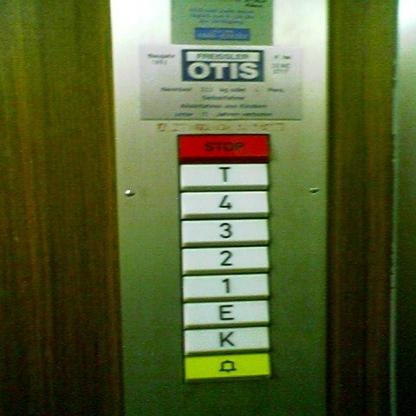1: (179, 271, 272, 302)
2: (178, 243, 273, 273)
3: (178, 216, 270, 247)
4: (178, 188, 270, 216)
E: (180, 298, 270, 326)
K: (180, 323, 272, 355)
T: (176, 160, 270, 190)
alarm: (180, 350, 273, 380)
stop: (174, 130, 271, 162)
